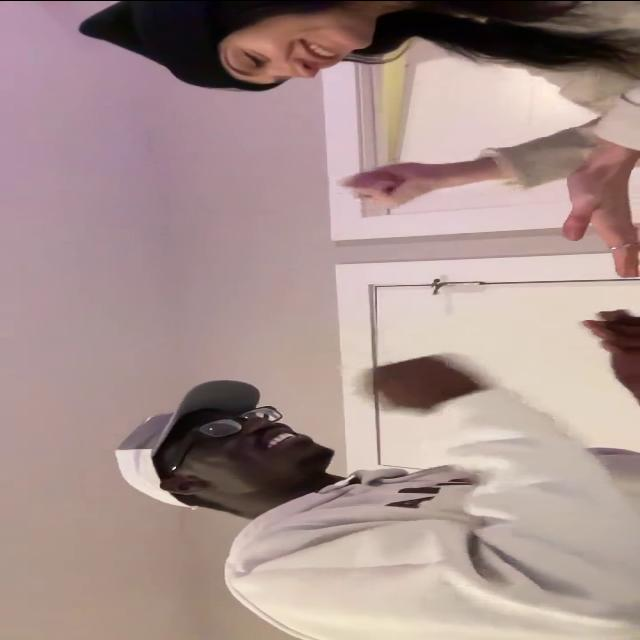Rock: (361, 352, 478, 407), (342, 160, 442, 208)
